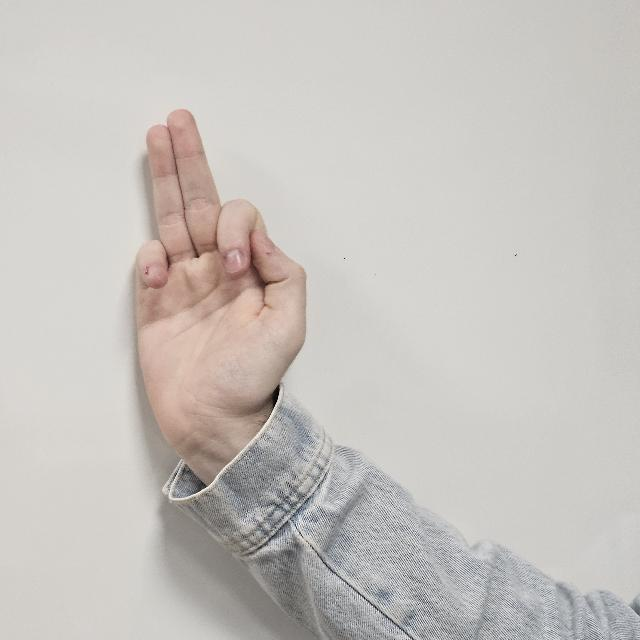R: (128, 108, 306, 450)
